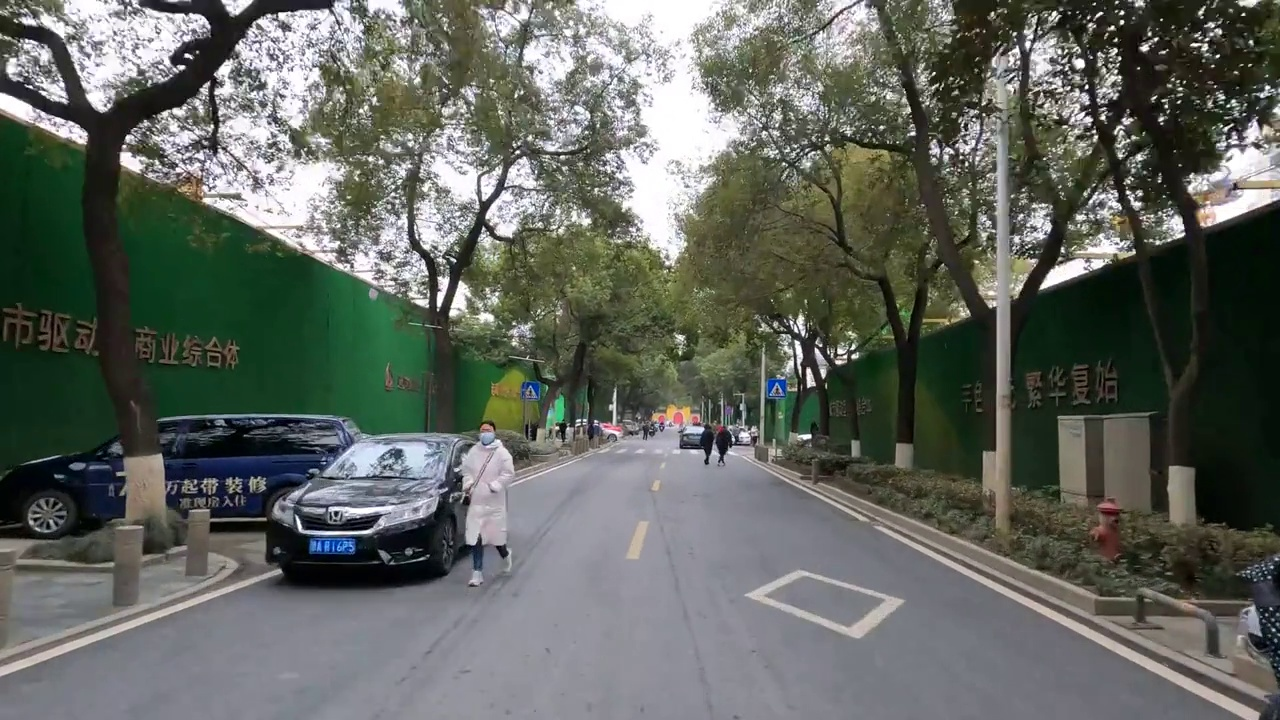lane: (760, 461, 1253, 720), (1, 577, 284, 680), (623, 521, 655, 562)
